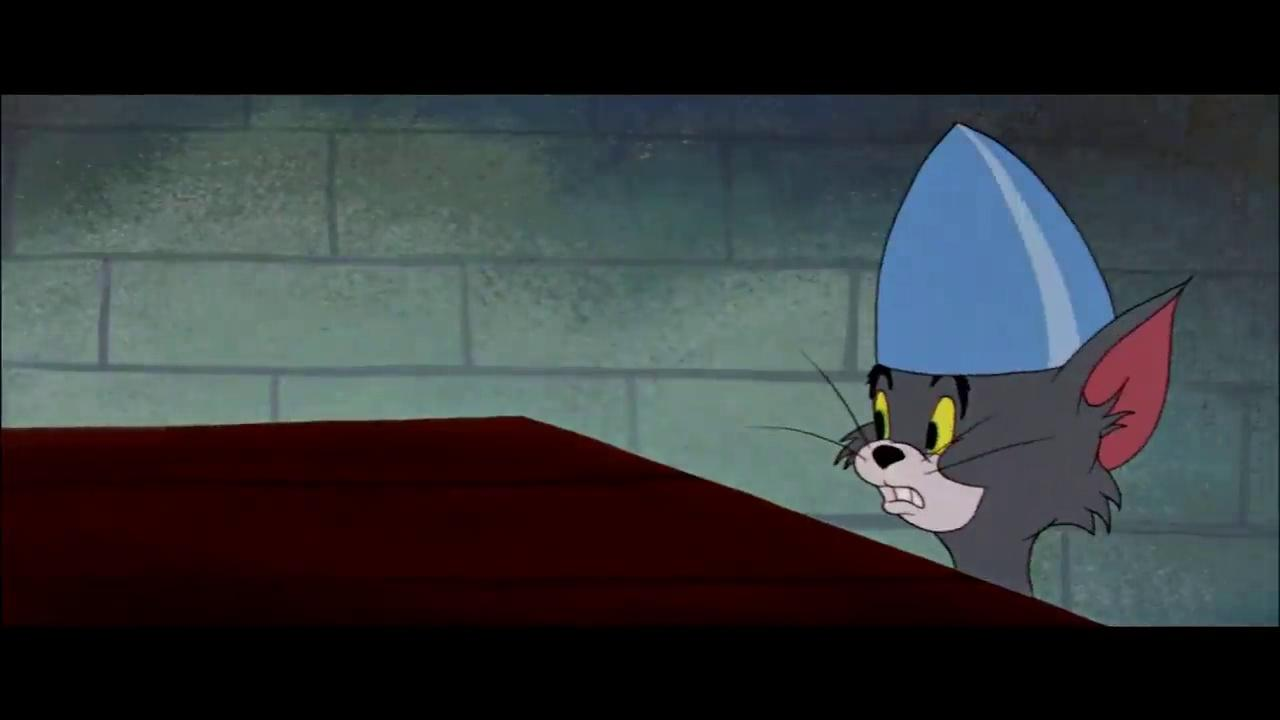Tom: (835, 273, 1200, 600)
